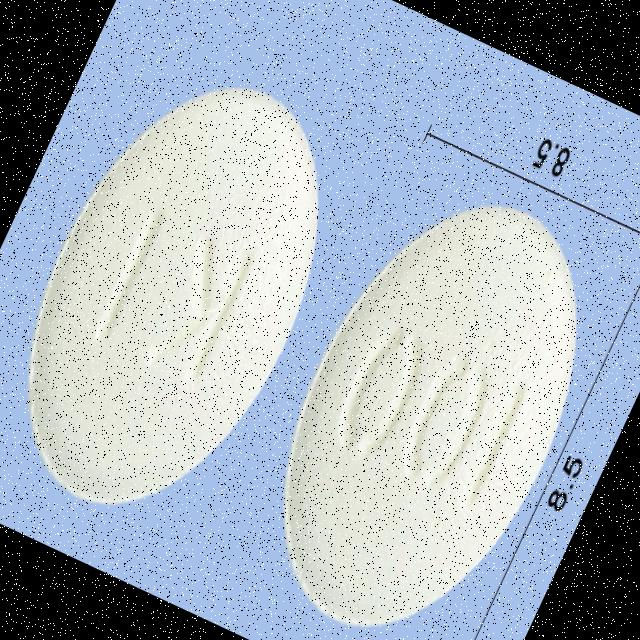Levogun - 500mg: (225, 162, 634, 640), (0, 44, 377, 553)
